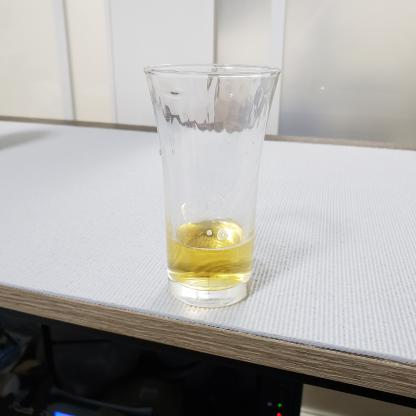glass: (134, 49, 296, 318)
